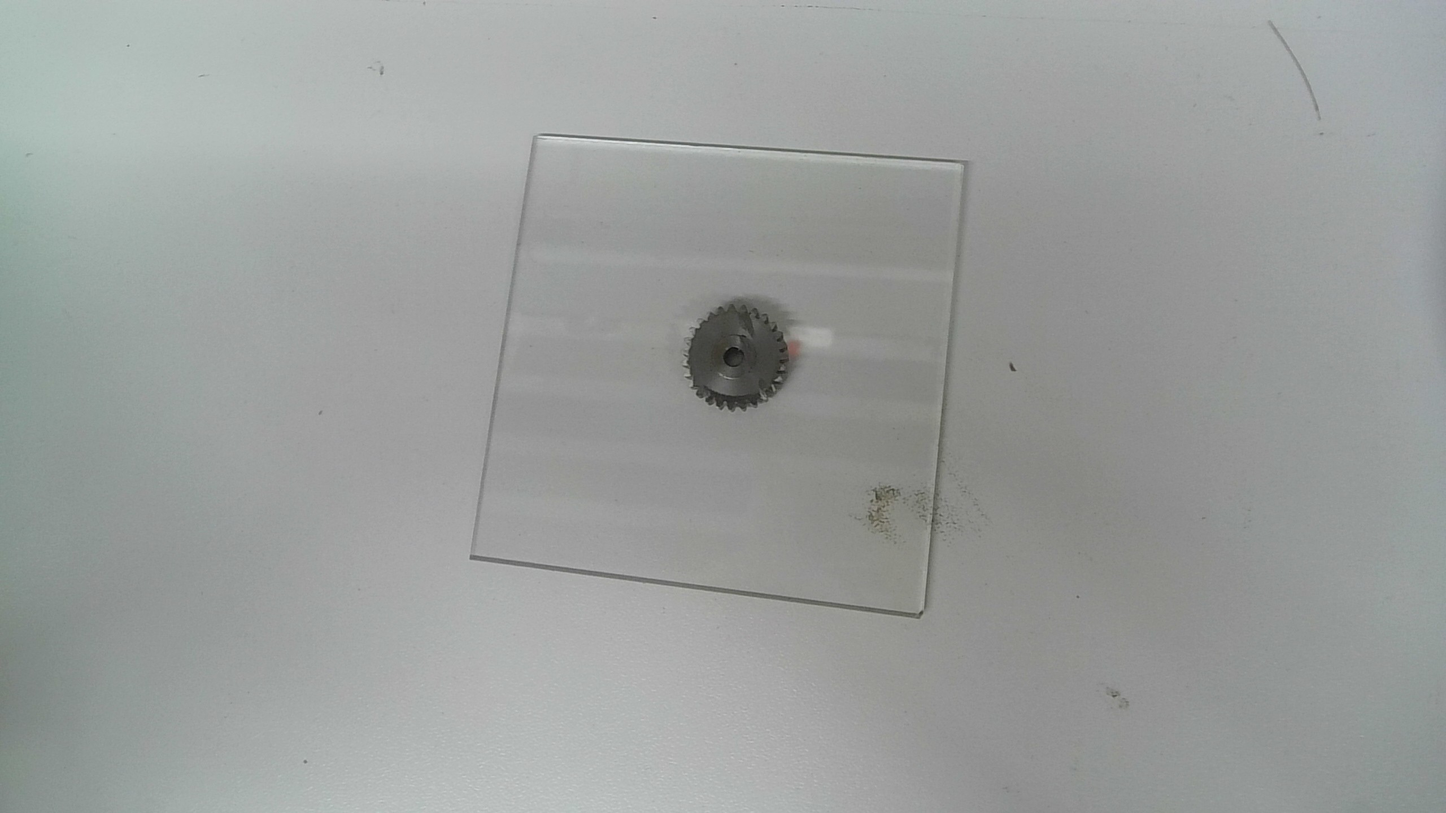gear: (679, 299, 794, 414)
